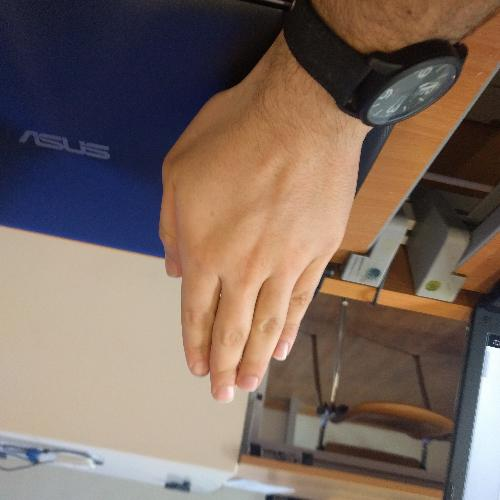paper: (152, 64, 372, 408)
